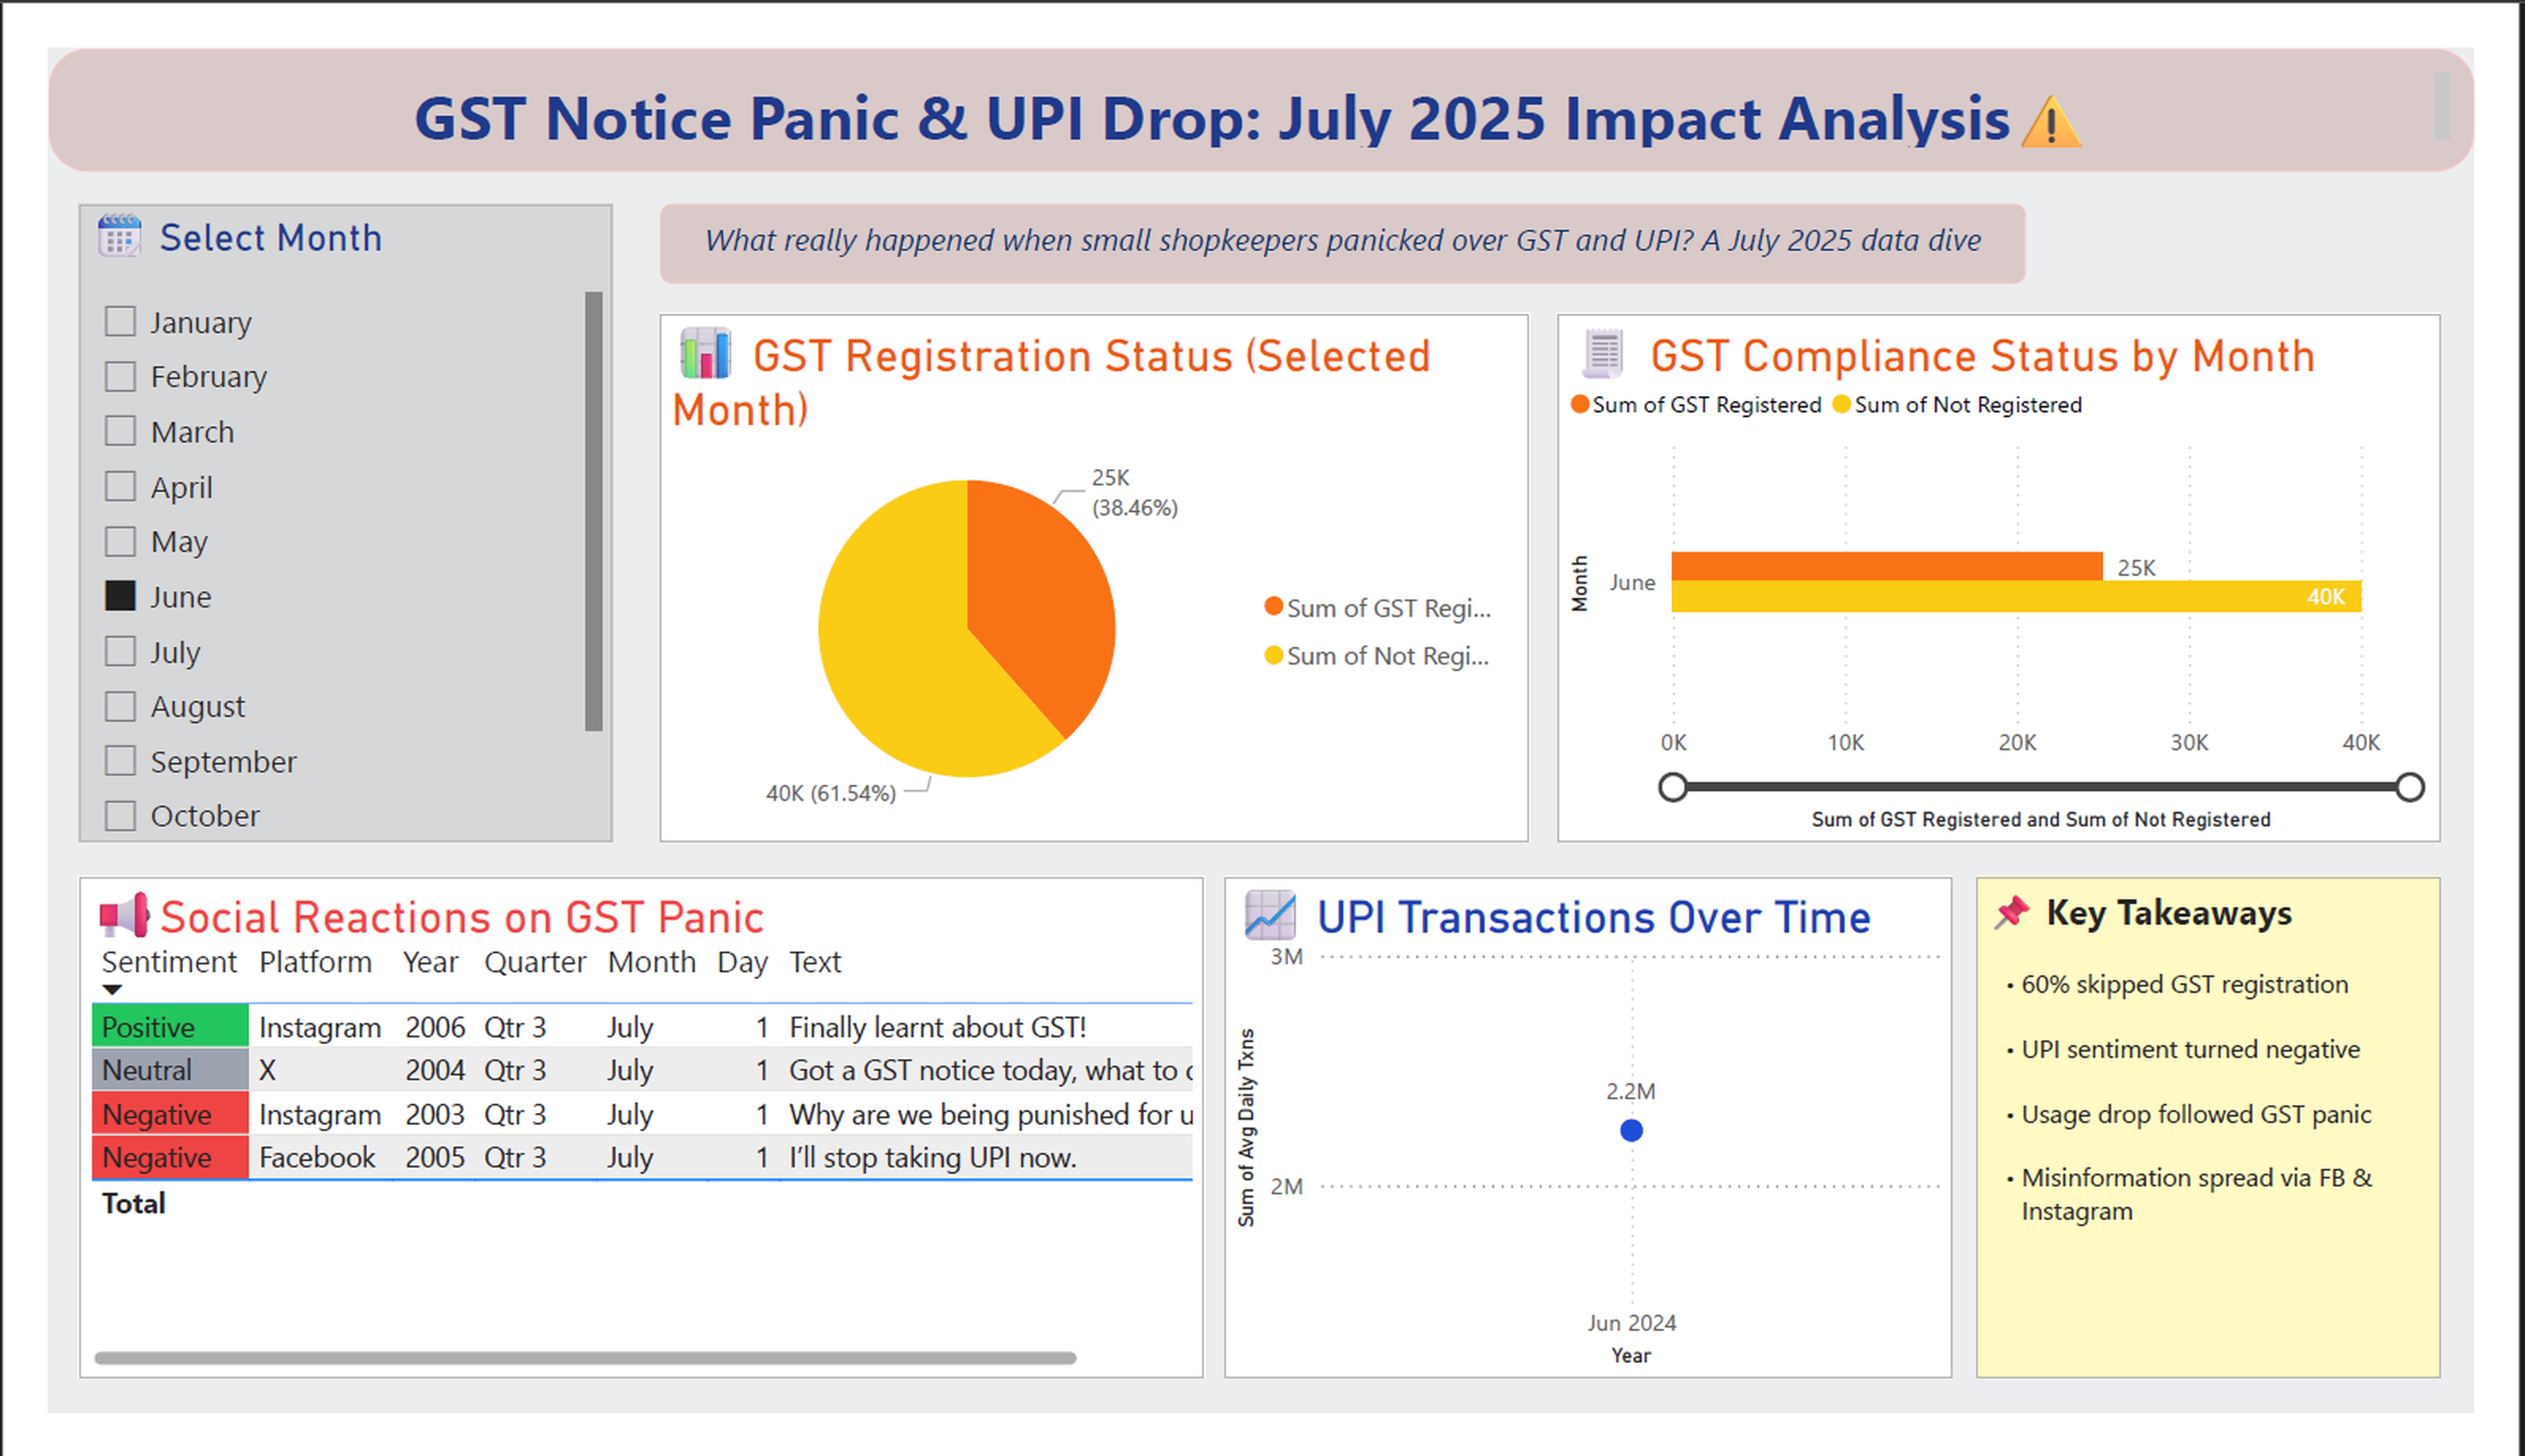

Layout of this report page (visuals, bound fields, positions):
{"tool":"powerbi","page":{"name":"Page 1","canvas":[1280,720],"ordinal":0},"visuals":[{"type":"lineChart","title":"📈 UPI Transactions Over Time","fields":{"Category":["GST_Status.Month.Variation.Date Hierarchy.Year","GST_Status.Month.Variation.Date Hierarchy.Quarter","GST_Status.Month.Variation.Date Hierarchy.Month","GST_Status.Month.Variation.Date Hierarchy.Day"],"Y":["Sum(UPI_Usage.Avg Daily Txns)"]},"box":[621,437.1,383.9,264.5],"z":0},{"type":"clusteredBarChart","title":"🧾 GST Compliance Status by Month","fields":{"Y":["Sum(GST_Status.GST Registered)","Sum(GST_Status.Not Registered)"],"Category":["GST_Status.Month.Variation.Date Hierarchy.Month"]},"box":[796.8,140.3,466.1,279],"z":1},{"type":"pieChart","title":"📊 GST Registration Status (Selected Month)","fields":{"Y":["Sum(GST_Status.GST Registered)","Sum(GST_Status.Not Registered)"]},"box":[322.6,140.3,459.7,279],"z":2},{"type":"slicer","title":"🗓️ Select Month","fields":{"Values":["GST_Status.Month.Variation.Date Hierarchy.Month"]},"box":[16.1,82.3,282.3,337.1],"z":3},{"type":"tableEx","title":"📢Social Reactions on GST Panic","fields":{"Values":["Sentiment_Data.Sentiment","Sentiment_Data.Platform","Sentiment_Data.Date.Variation.Date Hierarchy.Year","Sentiment_Data.Date.Variation.Date Hierarchy.Quarter","Sentiment_Data.Date.Variation.Date Hierarchy.Month","Sentiment_Data.Date.Variation.Date Hierarchy.Day","Sentiment_Data.Text"]},"box":[16.1,437.1,593.5,264.5],"z":4},{"type":"textbox","box":[0,0,1280.6,64.5],"z":5},{"type":"textbox","box":[322.6,82.3,721,41.9],"z":6},{"type":"textbox","box":[1017.7,437.1,245.2,264.5],"z":7}]}

Visuals, with their boxes in screenshot pixels (x1, y1, x2, y2), scaled from the page's 1280x720 canvas onto the 2525x1456 screenshot:
"📈 UPI Transactions Over Time" lineChart: region(1225, 884, 1983, 1419)
"🧾 GST Compliance Status by Month" clusteredBarChart: region(1572, 284, 2491, 848)
"📊 GST Registration Status (Selected Month)" pieChart: region(636, 284, 1543, 848)
"🗓️ Select Month" slicer: region(32, 167, 588, 848)
"📢Social Reactions on GST Panic" tableEx: region(32, 884, 1202, 1419)
textbox: region(0, 0, 2524, 130)
textbox: region(636, 167, 2059, 251)
textbox: region(2008, 884, 2491, 1419)
